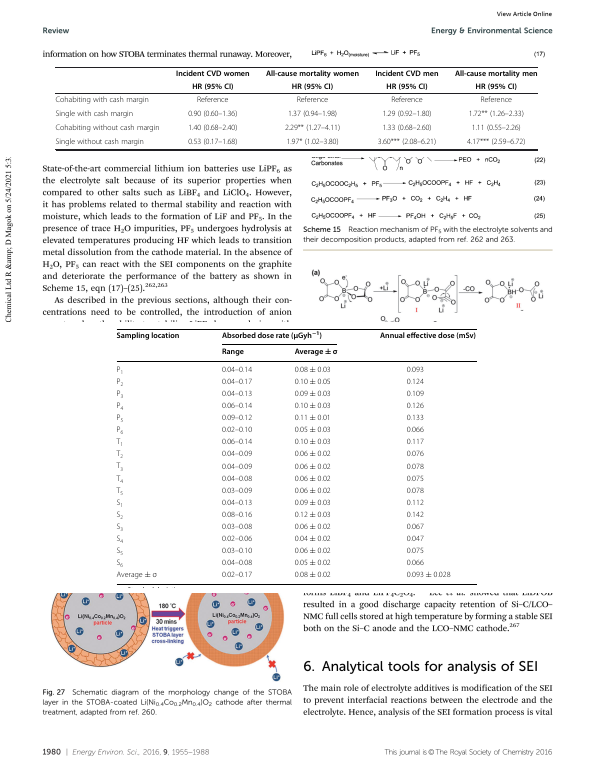borderless: (115, 327, 477, 584), (54, 65, 537, 149)
cell: (221, 330, 323, 341), (54, 123, 160, 133), (379, 331, 477, 341), (54, 95, 150, 105), (55, 137, 145, 147), (265, 69, 360, 78), (54, 109, 134, 119), (454, 69, 538, 78), (175, 69, 250, 78), (116, 331, 180, 341), (377, 137, 437, 147), (466, 137, 526, 147), (374, 69, 439, 78), (468, 109, 525, 119), (284, 123, 341, 133), (285, 137, 339, 147), (187, 109, 238, 119), (287, 109, 338, 119), (381, 109, 432, 119), (187, 123, 238, 133), (381, 123, 432, 133), (471, 123, 522, 133), (187, 137, 238, 147), (294, 347, 338, 357), (191, 82, 234, 92), (291, 82, 334, 92), (385, 82, 428, 92), (475, 82, 518, 92), (406, 571, 452, 580), (115, 571, 158, 580), (294, 365, 332, 375), (294, 377, 332, 387), (294, 486, 332, 496), (294, 498, 332, 508), (294, 390, 332, 399), (294, 402, 332, 411), (294, 414, 332, 423), (294, 426, 332, 435), (294, 438, 332, 447), (294, 450, 332, 459), (294, 462, 332, 471), (294, 474, 332, 483), (294, 511, 332, 520), (294, 523, 332, 532), (294, 535, 332, 544), (294, 547, 332, 556), (294, 559, 332, 568), (294, 571, 332, 580), (390, 95, 424, 105), (479, 95, 513, 105), (196, 95, 229, 105), (296, 95, 329, 105), (221, 365, 253, 375), (221, 377, 253, 387), (221, 486, 253, 496), (221, 498, 253, 508), (221, 390, 253, 399), (221, 402, 253, 411), (221, 414, 253, 423), (221, 426, 253, 435), (221, 438, 253, 447), (221, 450, 253, 459), (221, 462, 253, 471), (221, 474, 253, 483), (221, 511, 253, 520), (221, 523, 253, 532), (221, 535, 253, 544), (221, 547, 253, 556), (221, 559, 253, 568), (221, 571, 253, 580), (221, 347, 245, 357), (406, 365, 425, 375), (406, 377, 425, 387), (406, 486, 425, 496), (406, 498, 425, 508), (406, 390, 425, 399), (406, 402, 425, 411), (406, 414, 425, 423), (406, 426, 425, 435), (406, 438, 425, 447), (406, 450, 425, 459), (406, 462, 425, 471), (406, 474, 425, 483), (406, 511, 425, 520), (406, 523, 425, 532), (406, 535, 425, 544), (406, 547, 425, 556), (406, 559, 425, 568), (115, 438, 124, 449), (115, 450, 124, 461), (115, 462, 124, 473), (115, 474, 124, 485), (115, 486, 124, 497), (115, 498, 124, 509), (115, 547, 124, 558), (115, 559, 124, 570), (115, 511, 124, 521), (115, 523, 124, 533), (115, 535, 124, 545), (116, 365, 124, 376), (116, 377, 124, 388), (116, 426, 124, 437), (116, 390, 124, 400), (116, 402, 124, 412), (116, 414, 124, 424)
